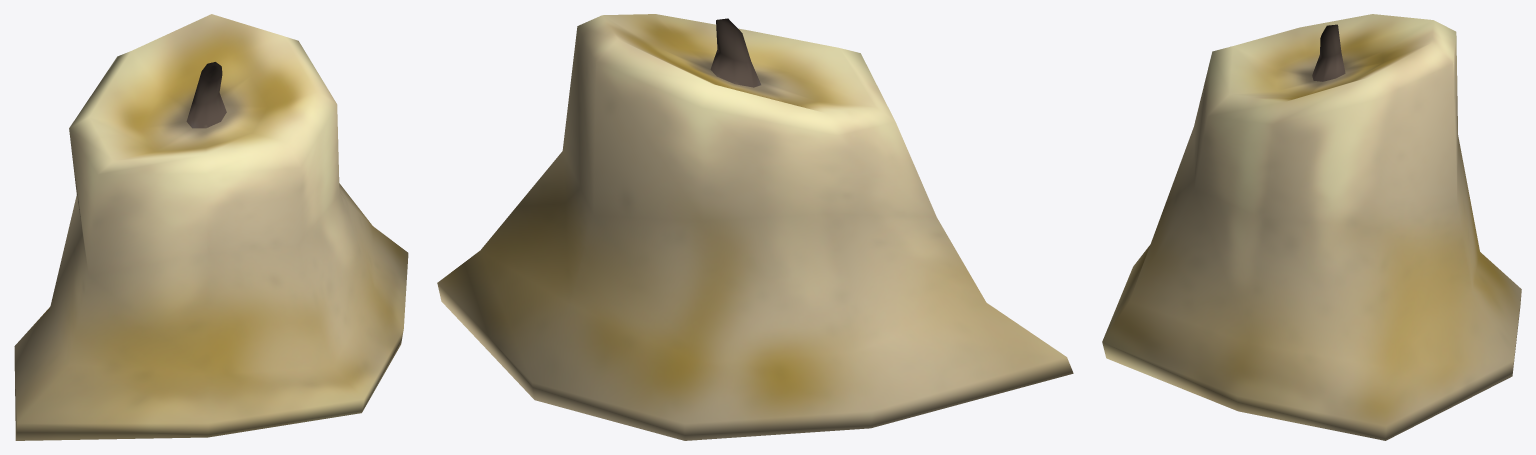
The model's file is candle3.fbx.
3 views of the same model, side by side, from view 1: azimuth 30°, elevation 25°; view 2: azimuth 150°, elevation 25°; view 3: azimuth 270°, elevation 25° (orthographic). The views are drawn at different scales.
Parts seen in each view (by area): view 1: candle3; view 2: candle3; view 3: candle3.
Boxes of the visible parts, x1,y1,x2,y2 form: candle3: (14, 14, 408, 440); candle3: (437, 14, 1073, 440); candle3: (1102, 14, 1521, 440).
Size of the model in its own units: 73.57 by 44.26 by 52.47.
